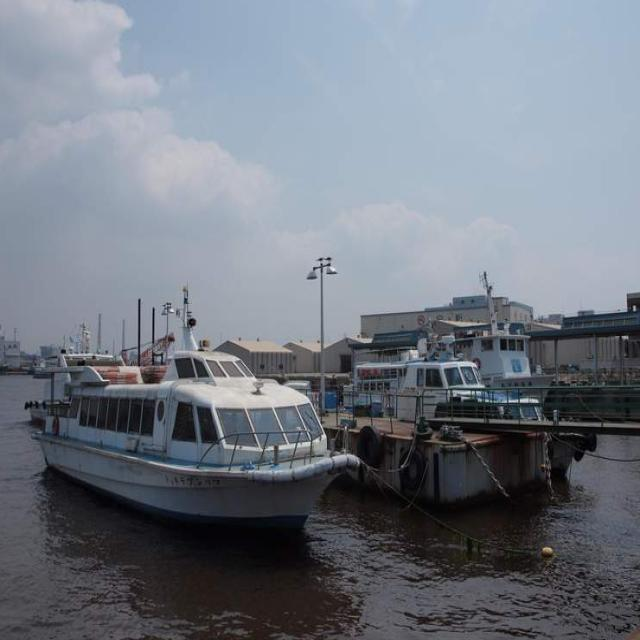houseboat: (8, 311, 356, 569)
